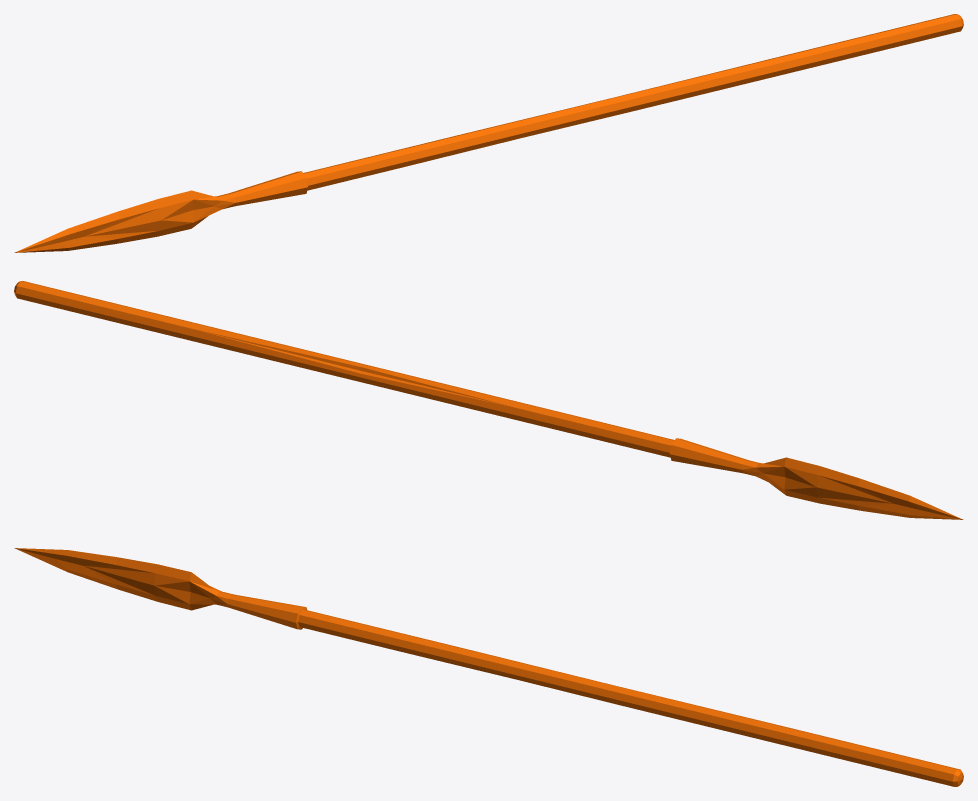
File: CGM_ENV_WEP_spear3.fbx
3 views of the same model, one above another, from view 1: azimuth 30°, elevation 25°; view 2: azimuth 150°, elevation 25°; view 3: azimuth 330°, elevation 25° (orthographic).
Visible parts, largest first — view 1: CGM_ENV_WEP_spear3; view 2: CGM_ENV_WEP_spear3; view 3: CGM_ENV_WEP_spear3.
Boxes of the visible parts, x1,y1,x2,y2 form: CGM_ENV_WEP_spear3: (14,14,963,252); CGM_ENV_WEP_spear3: (14,281,963,519); CGM_ENV_WEP_spear3: (14,548,963,786).
Bounding box in the file's own units: 232 × 8.96 × 5.27.
